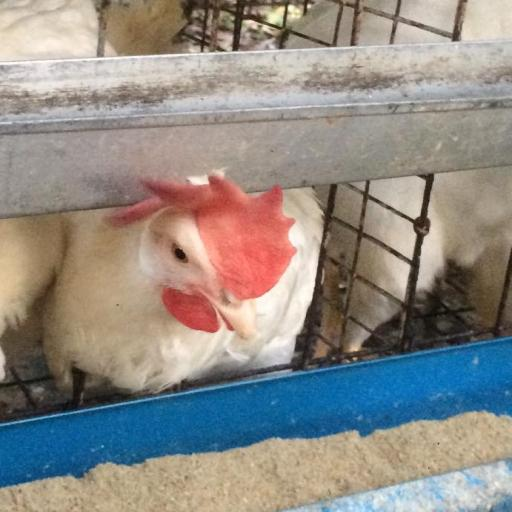healthy: (82, 155, 344, 357), (318, 346, 344, 358)
